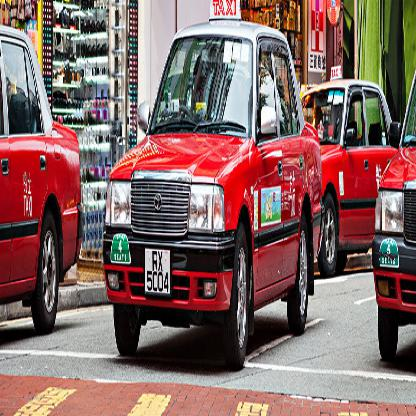taxi: (101, 1, 328, 373)
